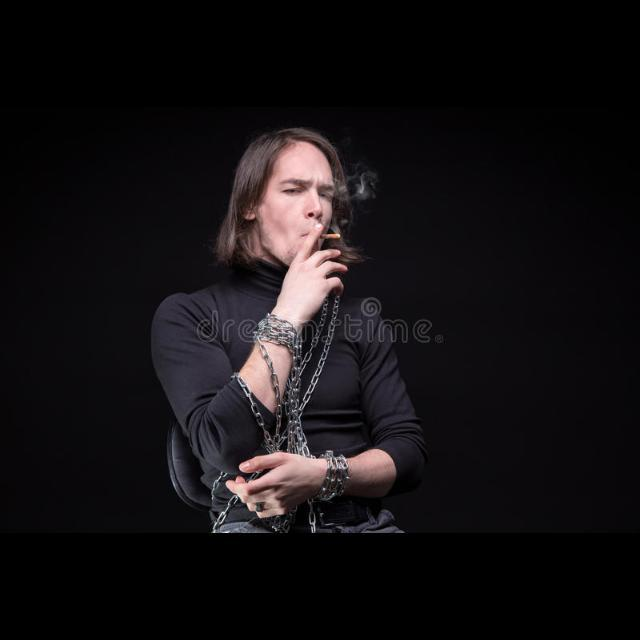rokok: (321, 230, 344, 242)
